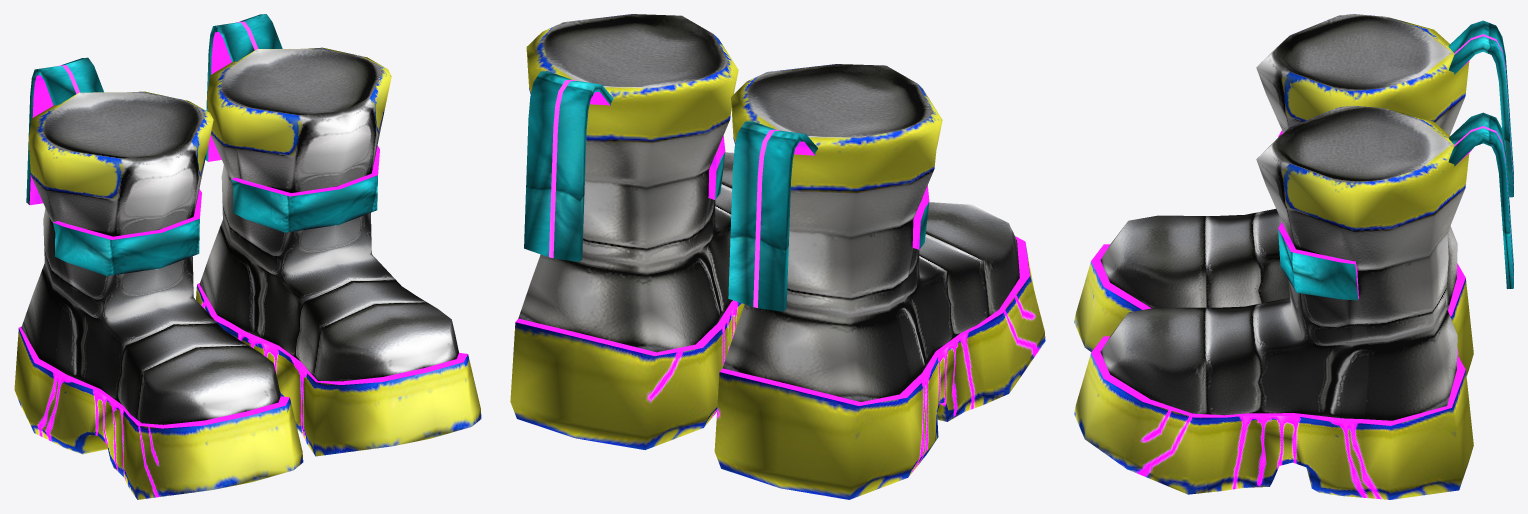
Rendered from mooxx.glb.
The picture shows the model from 3 angles, left to right: view 1: azimuth 30°, elevation 25°; view 2: azimuth 150°, elevation 25°; view 3: azimuth 270°, elevation 25°; orthographic projection. The views are drawn at different scales.
Parts seen in each view (by area): view 1: Boot_low; view 2: Boot_low; view 3: Boot_low.
Part boxes in pixels (<box>): Boot_low: <box>14,14,481,499</box>; Boot_low: <box>510,14,1045,499</box>; Boot_low: <box>1074,14,1513,499</box>.
Size of the model in its own units: 0.355 by 0.3133 by 0.3706.
1 material, 1 textured.
